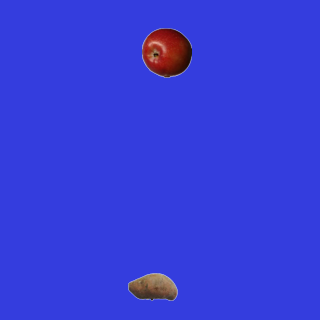Apple Braeburn: (141, 27, 191, 77)
Potato Sweet: (127, 261, 177, 311)
